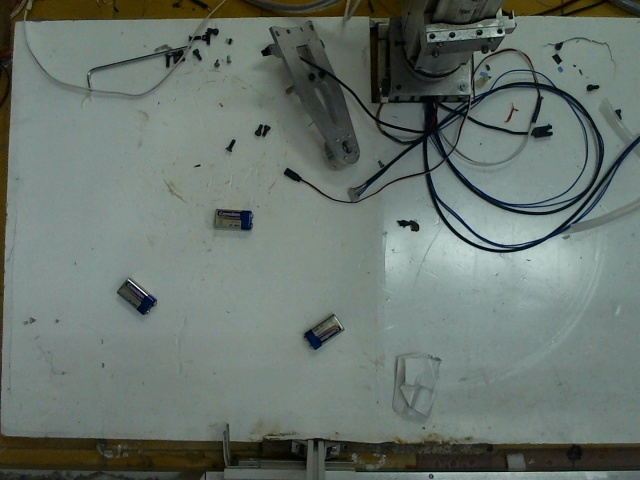battery: (110, 272, 162, 314), (300, 311, 349, 348), (209, 203, 253, 233)
